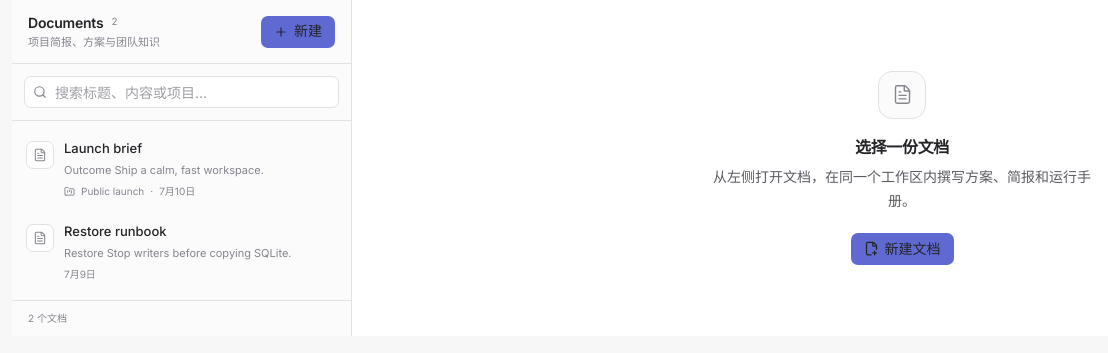
Scenario: DocumentsHub › lists documents and filters across Markdown content
The width and height of the screenshot is (1108, 353).
expect the text "Launch brief" is shown: met, box [64, 140, 142, 156]
expect the text "Restore runbook" is shown: met, box [64, 223, 167, 239]
Type "SQLite" into the field named "搜索文档" at (192,92), box [47, 77, 338, 107]
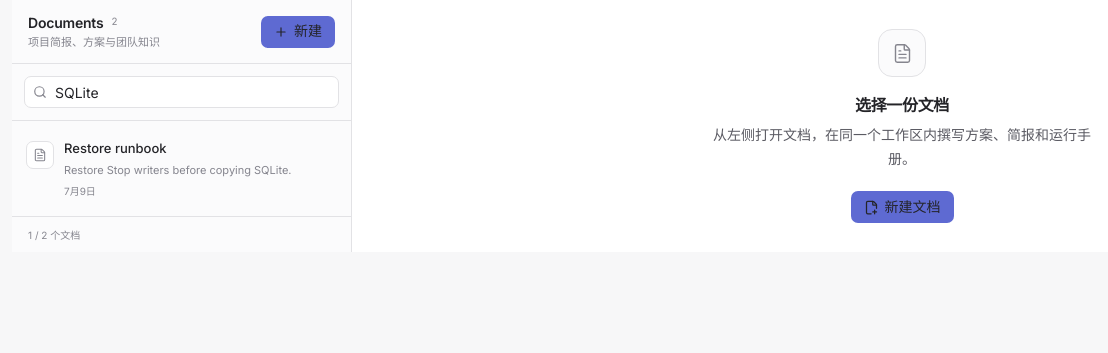
expect the text "Restore runbook" is shown: met, box [64, 140, 167, 156]
expect the button "Launch brief" is gone: met
